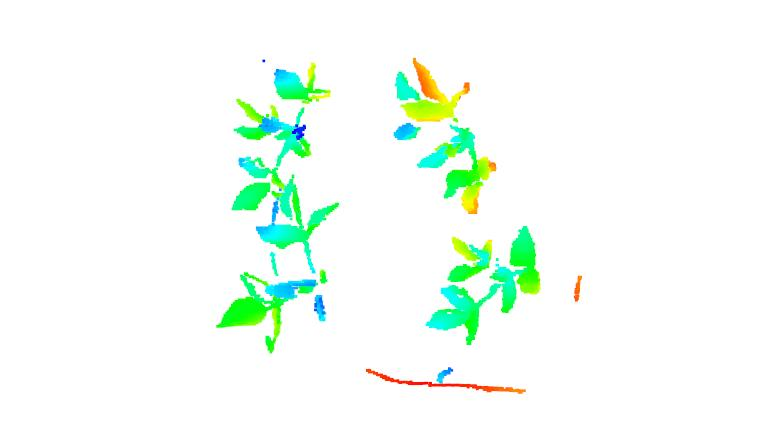mungbean: (214, 180, 350, 351), (393, 54, 500, 217), (231, 59, 339, 210), (425, 224, 543, 351)
